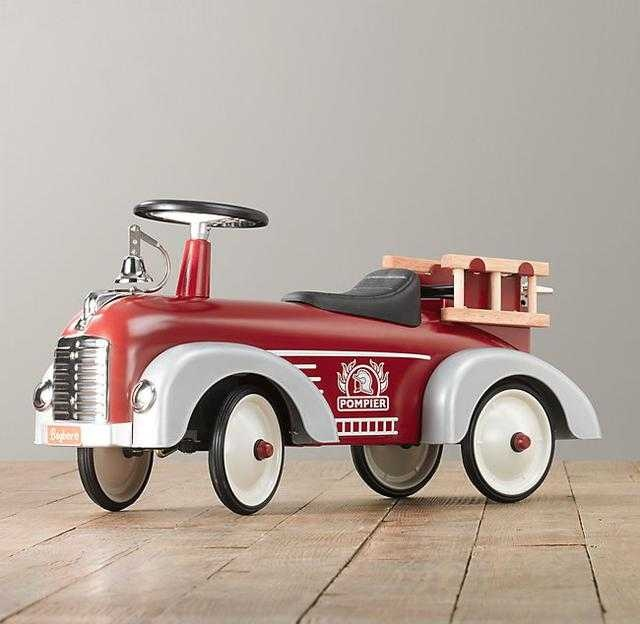Fire Truck: (31, 196, 580, 510)
